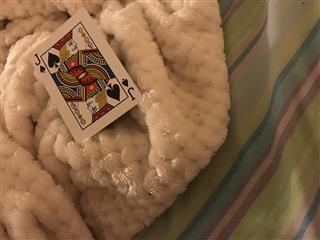JackOfSpades: (26, 6, 141, 141)
